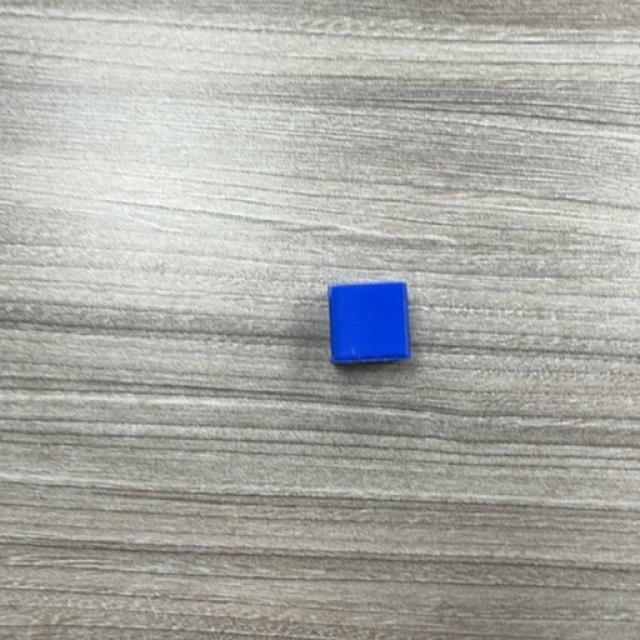Azul: (329, 281, 412, 366)
